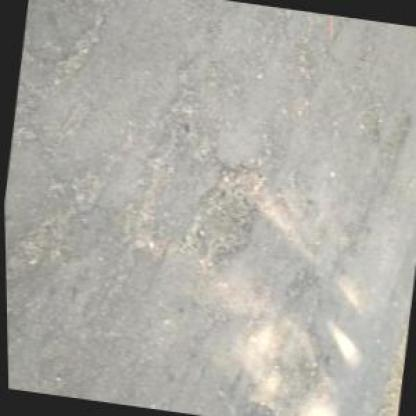pothole: (174, 152, 274, 286)
